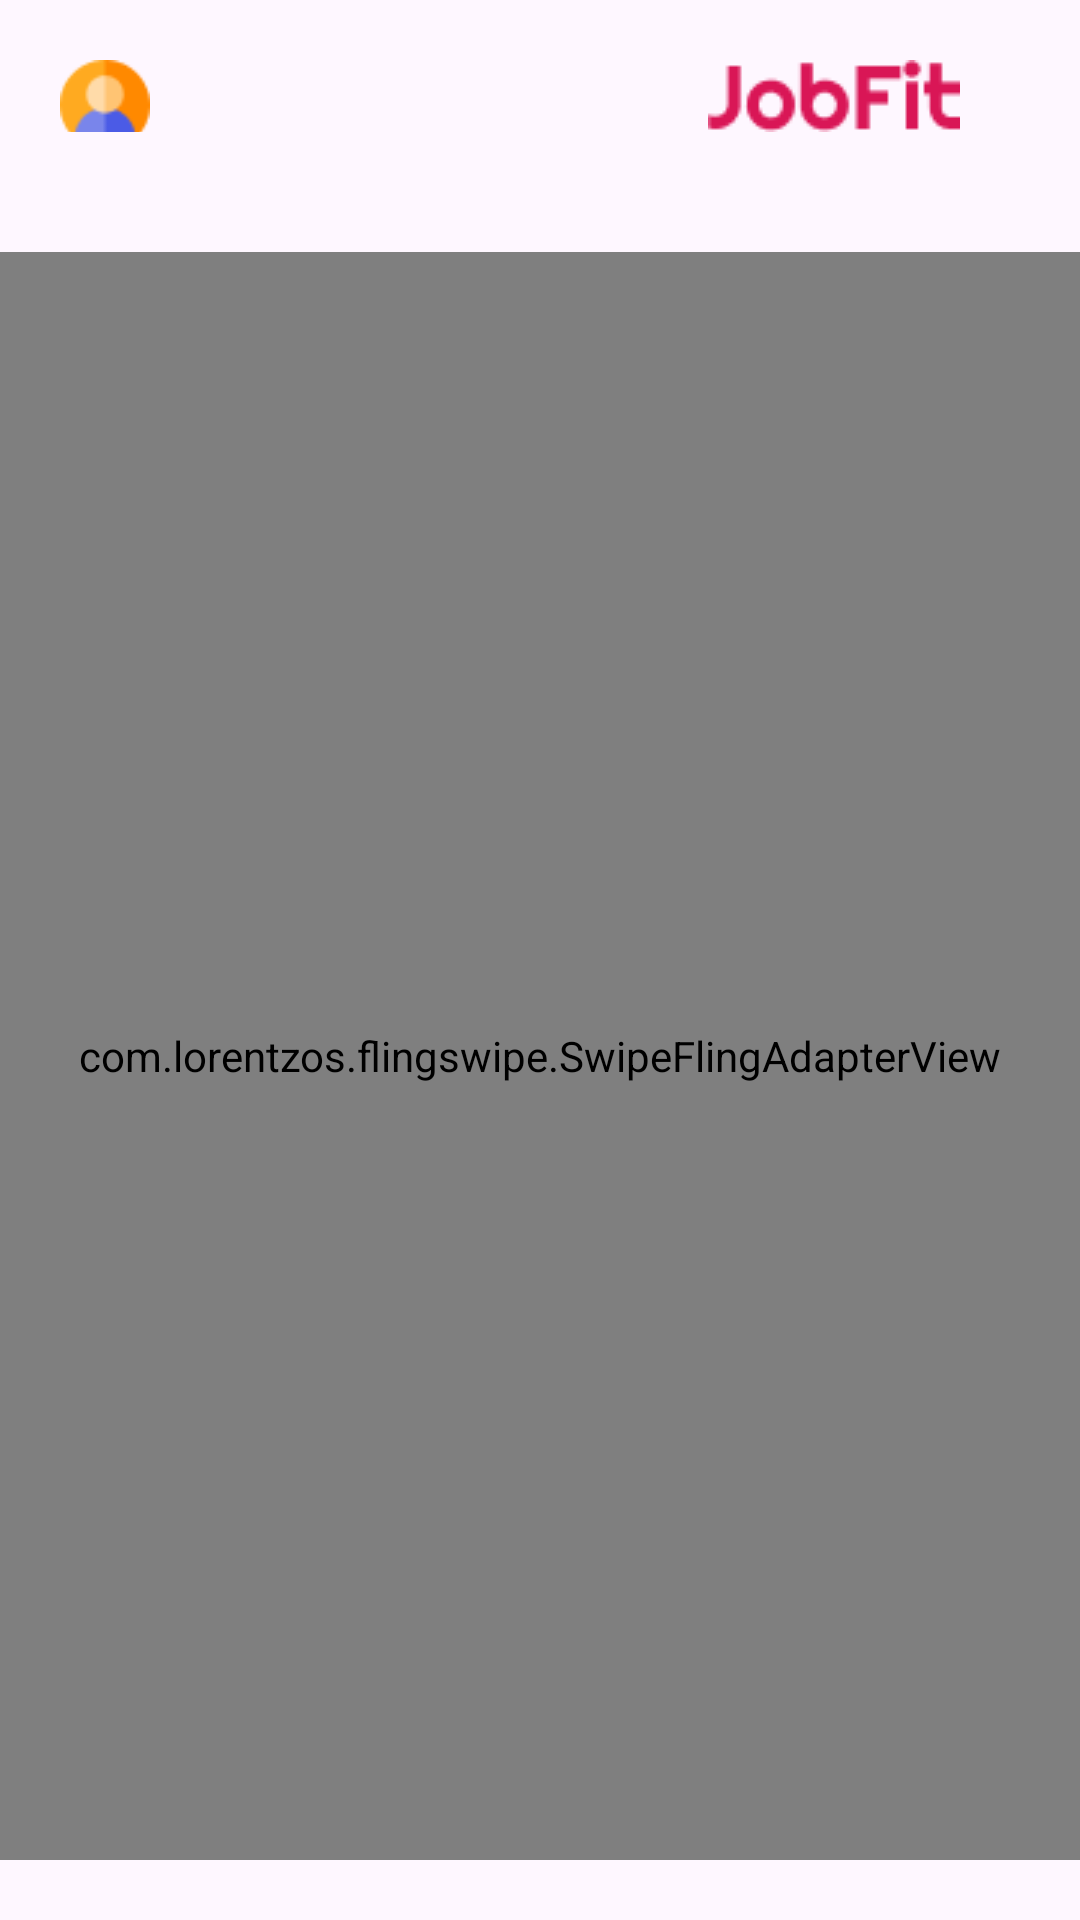

Icon click points for this 1080×1920 phone screenshot, format point (x, y):
user head: point (105, 96)
